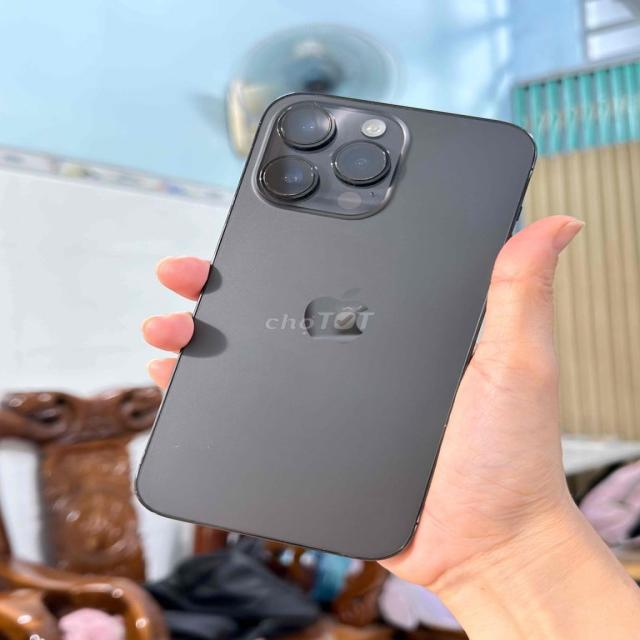gen_14: (121, 89, 542, 557)
